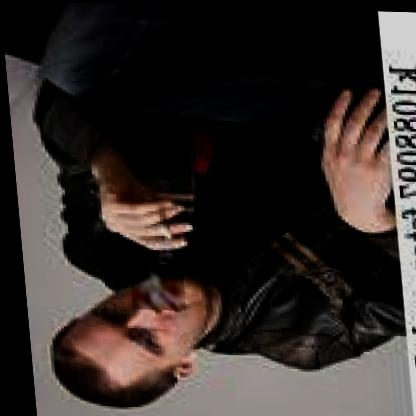smoke: (124, 262, 180, 310)
